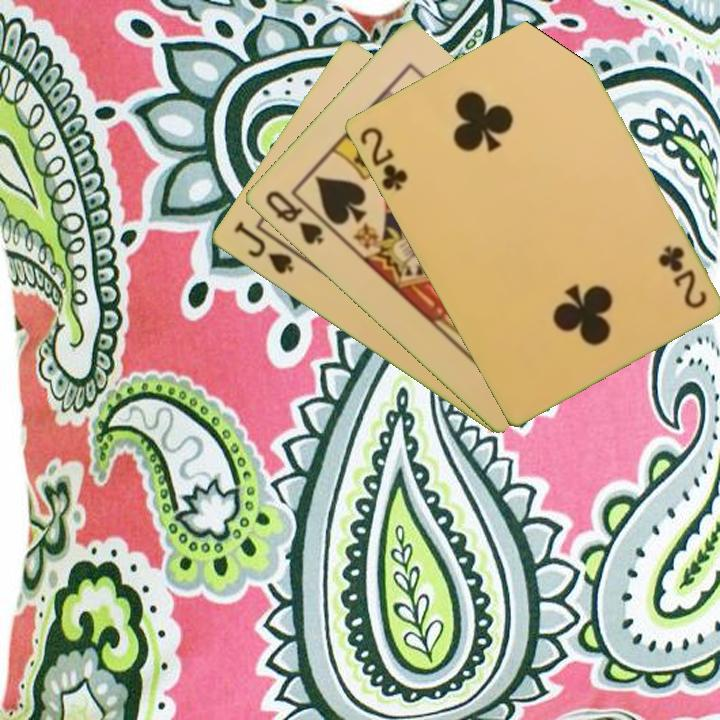2c: (355, 123, 411, 194), (655, 241, 710, 312)
Js: (229, 218, 296, 277)
Qs: (261, 186, 326, 248)
